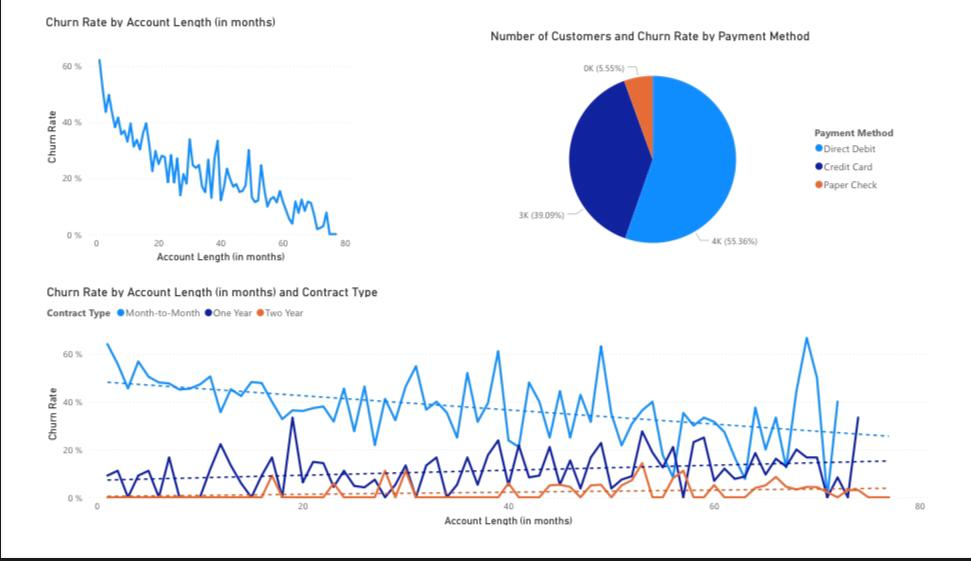

This screenshot's page, from the dashboard's own definition file:
{"tool":"powerbi","page":{"name":"Contract Type","canvas":[1280,720],"ordinal":4},"visuals":[{"type":"lineChart","fields":{"Y":["Databel - Data.Churn Rate"],"Category":["Databel - Data.Account Length (in months)"]},"box":[32.2,0,429.4,344.8],"z":0,"group":"g1"},{"type":"lineChart","fields":{"Y":["Databel - Data.Churn Rate"],"Category":["Databel - Data.Account Length (in months)"],"Series":["Databel - Data.Contract Type"]},"box":[32.8,369.1,1214.5,335.1],"z":0},{"type":"group","id":"g1","title":"Group 1","box":[32.2,0,1184.7,360.3],"z":1000},{"type":"pieChart","fields":{"Category":["Databel - Data.Payment Method"],"Y":["Databel - Data.Number of Customers"]},"box":[640.5,19,576.5,341.3],"z":1000,"group":"g1"}]}

Visuals, with their boxes in screenshot pixels (x1, y1, x2, y2), scaled from the page's 1280x720 canvas onto the 971x561 screenshot:
lineChart - Databel - Data.Churn Rate x Databel - Data.Account Length (in months): (x1=24, y1=0, x2=350, y2=269)
lineChart - Databel - Data.Churn Rate x Databel - Data.Account Length (in months): (x1=25, y1=288, x2=946, y2=549)
"Group 1" group: (x1=24, y1=0, x2=923, y2=281)
pieChart - Databel - Data.Payment Method x Databel - Data.Number of Customers: (x1=486, y1=15, x2=923, y2=281)
